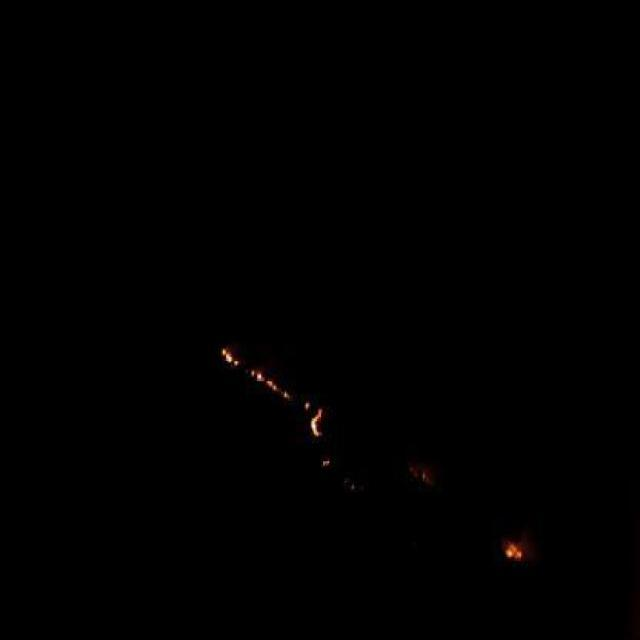Fire: (251, 370, 294, 401), (498, 532, 528, 565), (309, 407, 323, 438), (222, 346, 240, 364)
